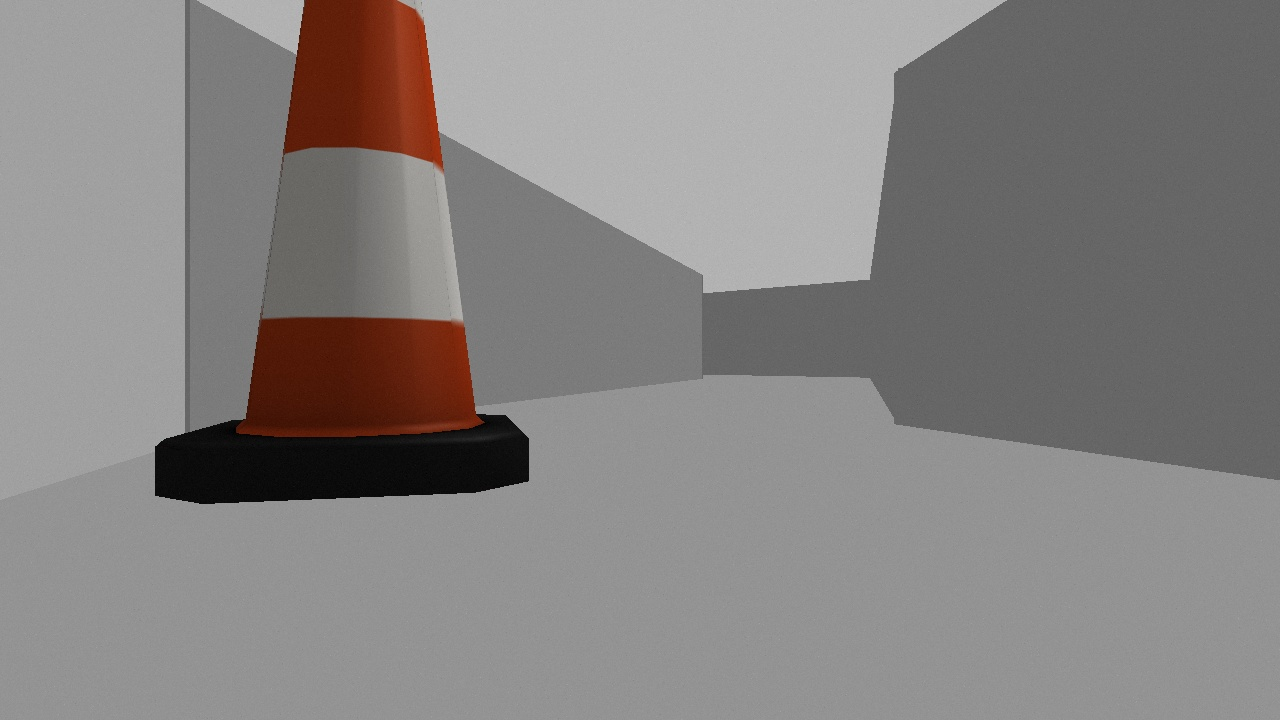barricade: (136, 1, 545, 515)
